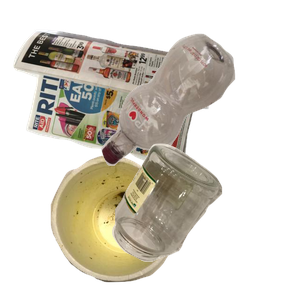glass: (110, 141, 300, 300)
paper: (11, 27, 213, 185)
plastic: (99, 31, 300, 189)
trash: (48, 152, 219, 300)
